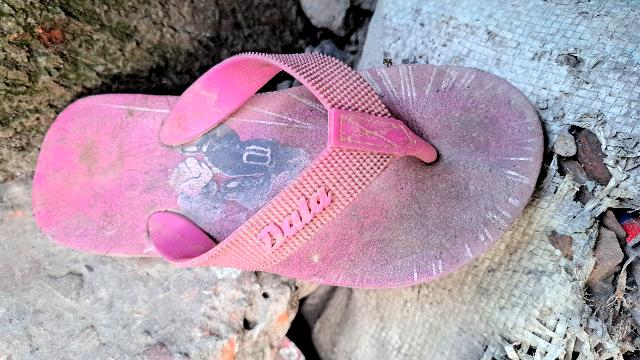sandal: (26, 43, 536, 297)
